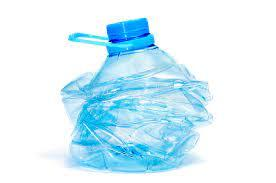plastic: (57, 18, 208, 172)
